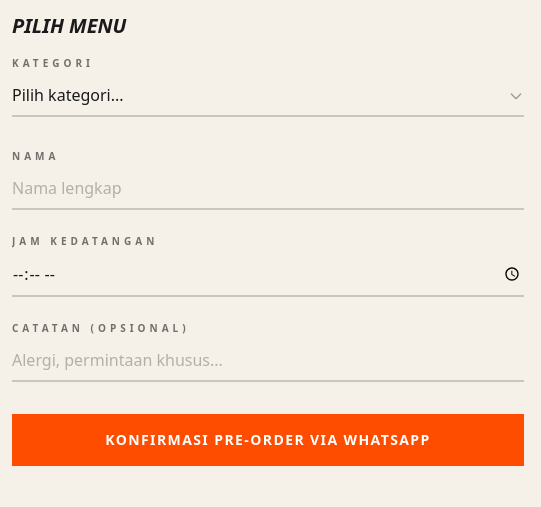
Test case: PreorderForm › shows error when submitting with no items selected
The width and height of the screenshot is (541, 507).
Type "Sari" into the field labelled "Nama".
click(268, 189); type("Sari")  # box [12,168,524,210]
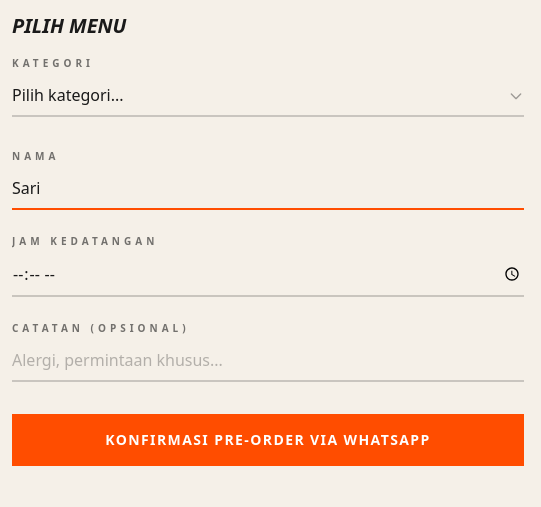
Type "15:00" into the time field labelled "Jam Kedatangan".
click(268, 275); type("15:00")  # box [12,253,524,297]
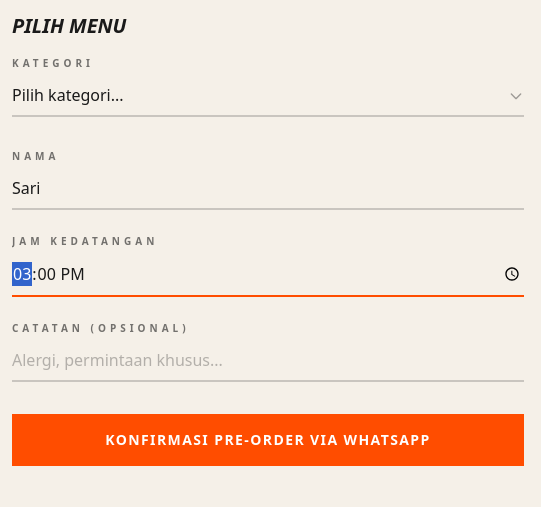
Click the button "Konfirmasi Pre-order via WhatsApp".
click(268, 440)  # box [12,414,524,466]
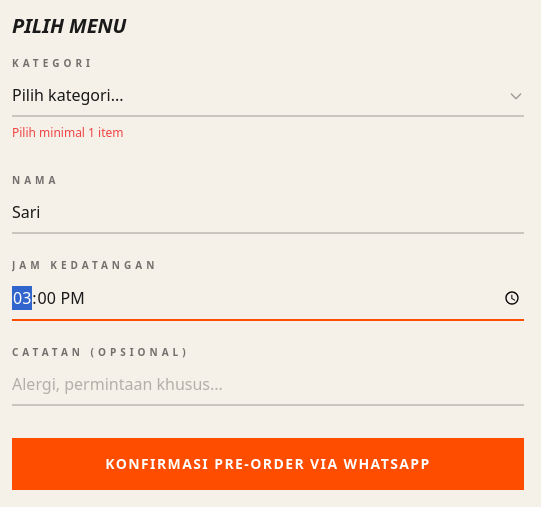
Check: the text "Pilih minimal 1 item" is shown, box [12,124,124,141]
